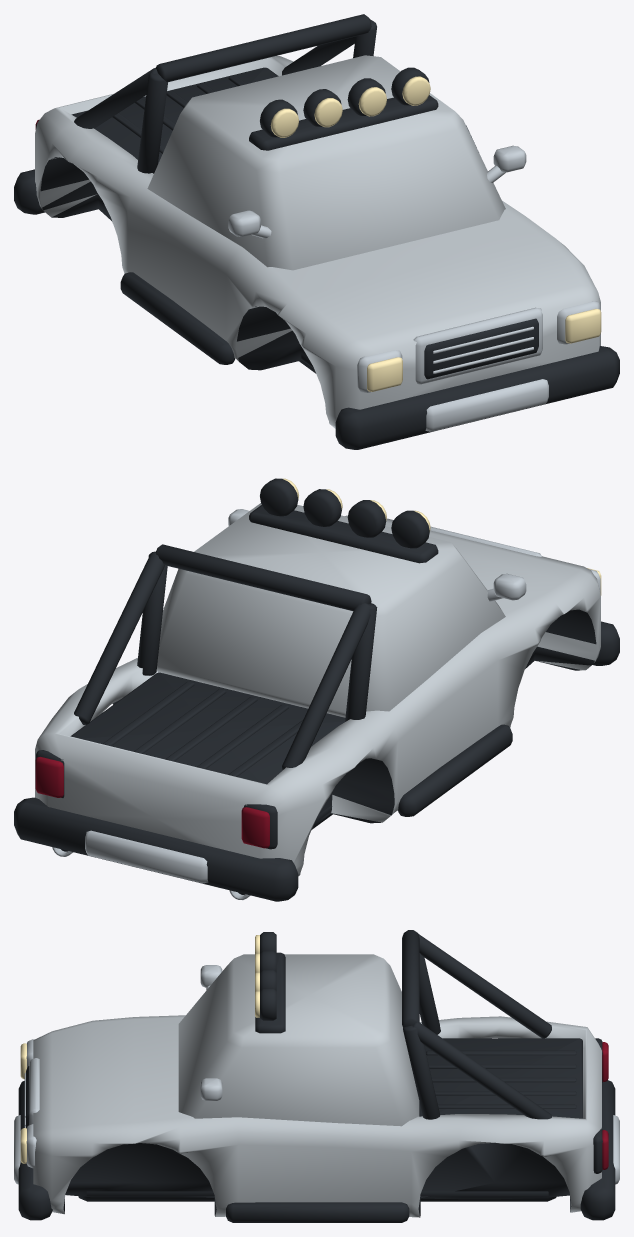
Rendered from auto-camioneta.glb.
3 views of the same model, one above another, from view 1: azimuth 30°, elevation 25°; view 2: azimuth 150°, elevation 25°; view 3: azimuth 270°, elevation 25° (orthographic). The views are drawn at different scales.
Parts seen in each view (by area): view 1: auto-camioneta; view 2: auto-camioneta; view 3: auto-camioneta.
Part boxes in pixels (<box>): auto-camioneta: <box>14,14,619,449</box>; auto-camioneta: <box>14,478,619,901</box>; auto-camioneta: <box>14,930,619,1222</box>.
Bounding box in the file's own units: 2.06 × 1.63 × 4.2.
